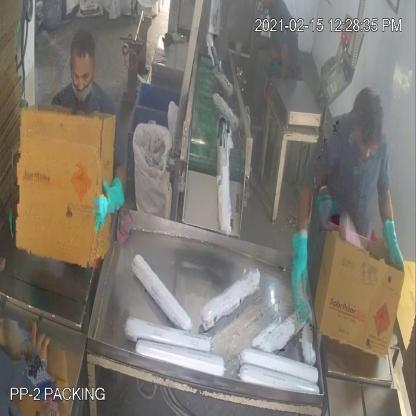glove: (286, 218, 318, 322), (83, 165, 126, 237), (378, 205, 410, 287)
no_glove: (252, 37, 289, 72)
